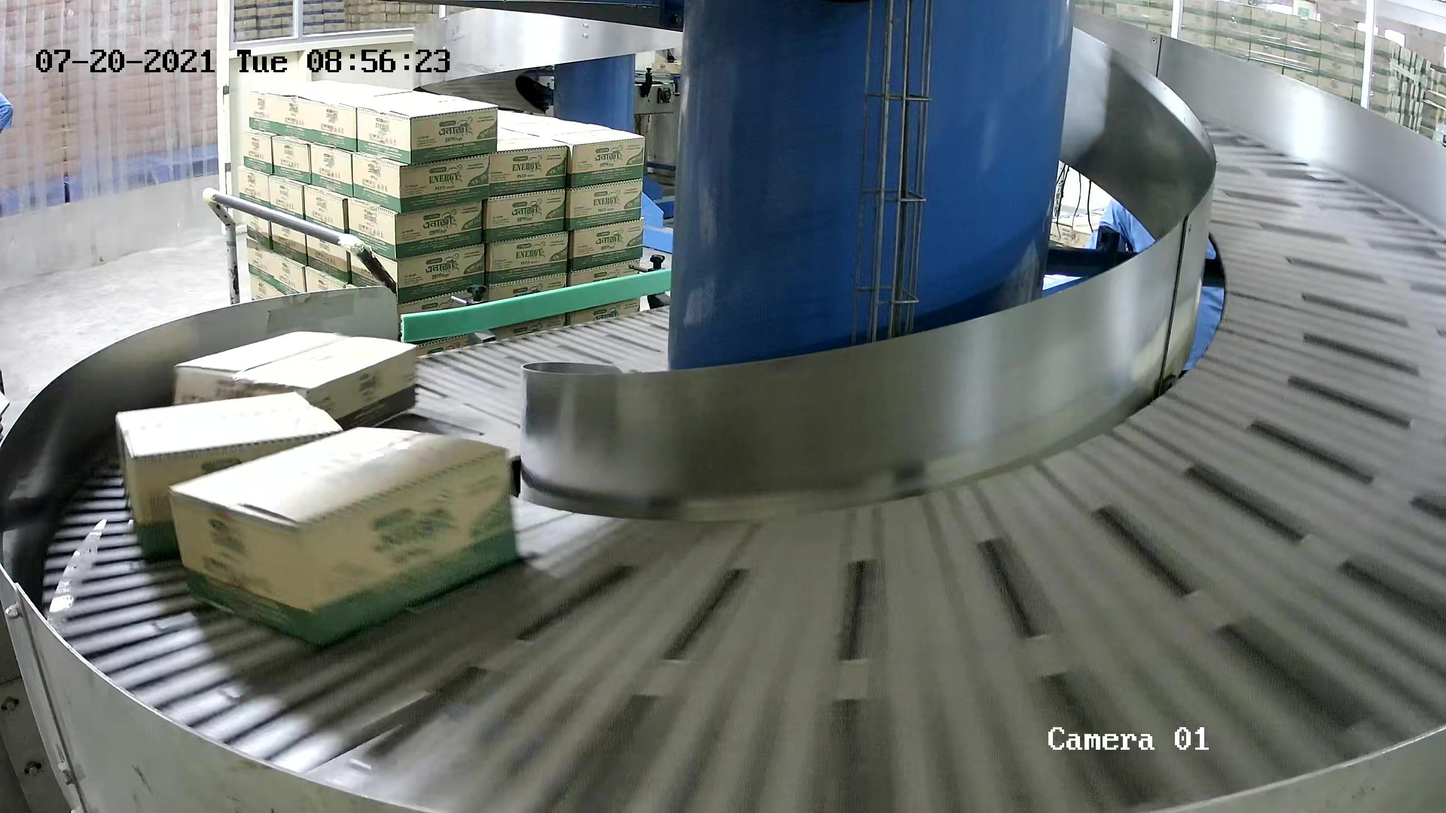Box: (167, 425, 516, 648), (114, 392, 347, 561), (173, 329, 419, 452)
